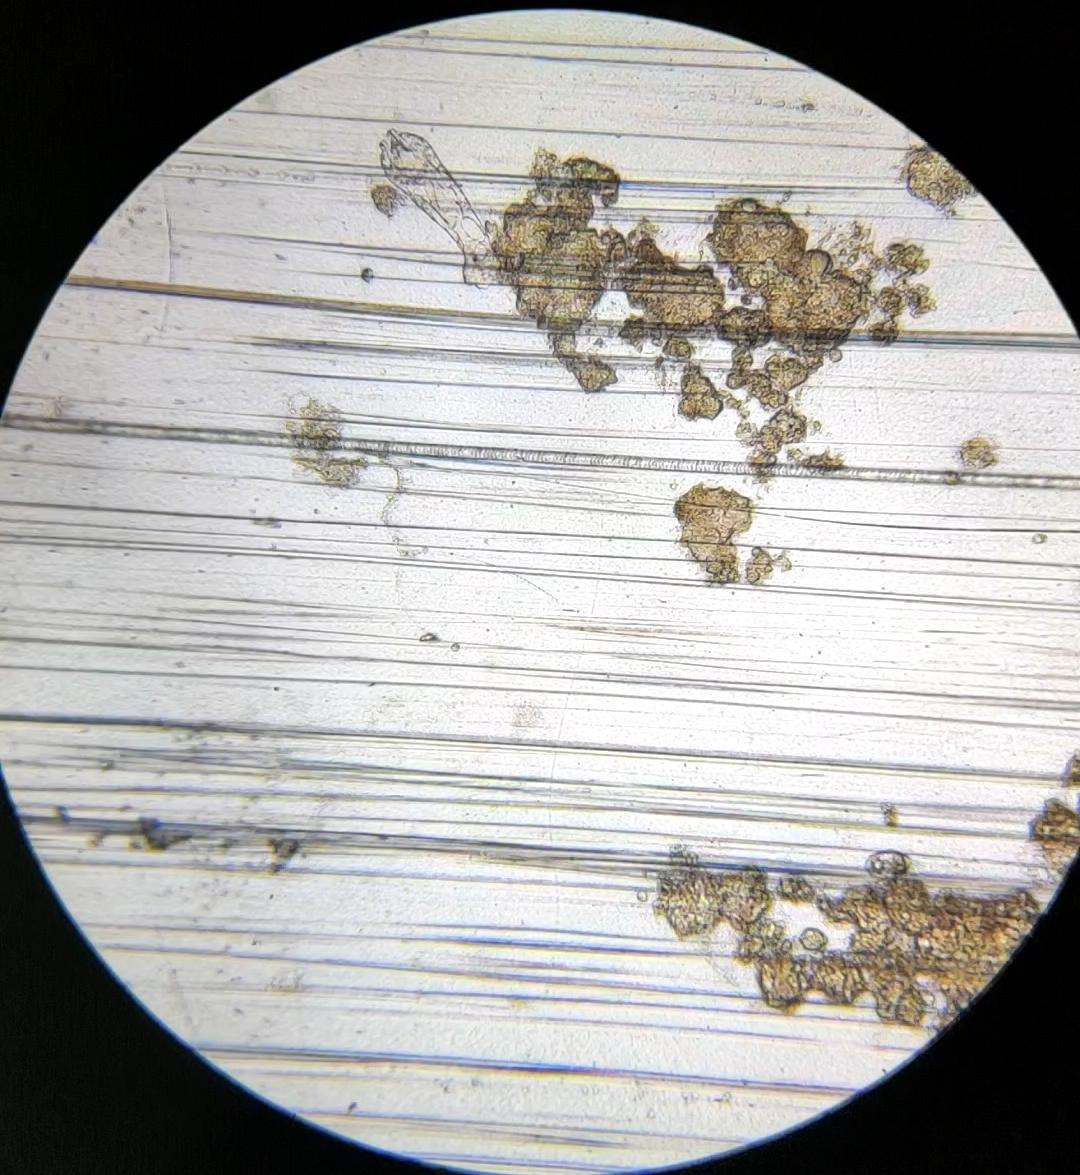Do: (379, 129, 503, 289)
